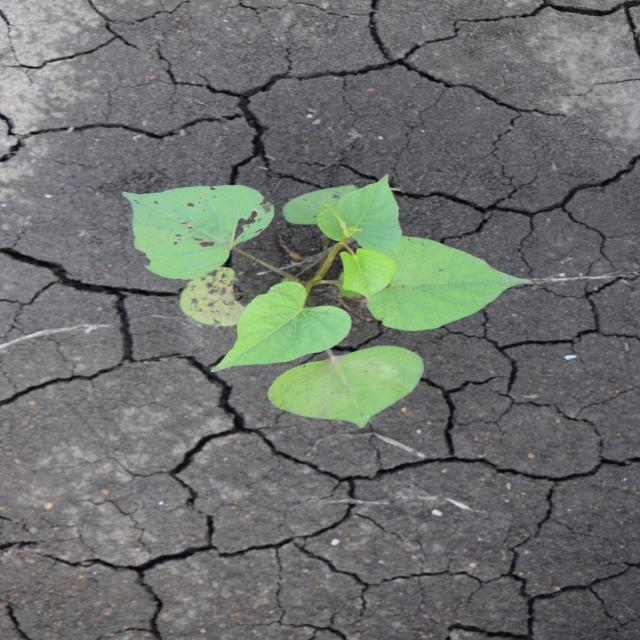MorningGlory: (119, 172, 538, 431)
